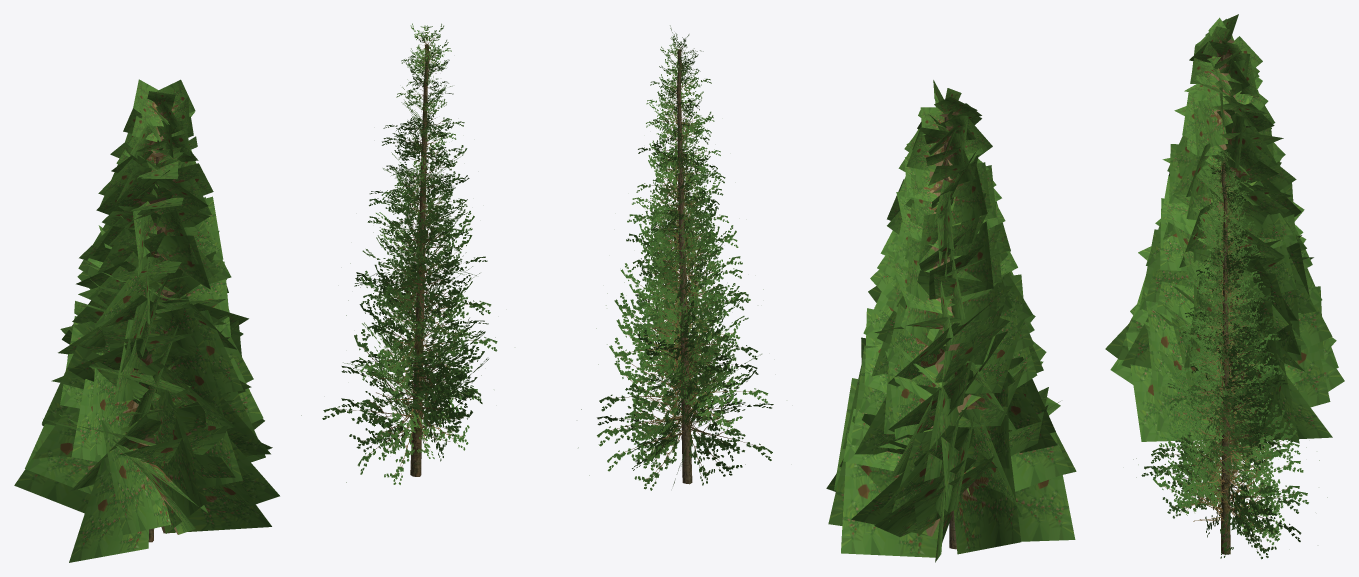
The model's file is tree.glb.
The picture shows the model from 3 angles, left to right: view 1: azimuth 30°, elevation 25°; view 2: azimuth 150°, elevation 25°; view 3: azimuth 270°, elevation 25°; orthographic projection. The views are drawn at different scales.
Parts seen in each view (by area): view 1: Tree, LOD; view 2: Tree, LOD; view 3: Tree, LOD.
Boxes of the visible parts, box(x1,y1,x2,y2) form: Tree: box(14, 79, 279, 562); LOD: box(301, 23, 497, 484); Tree: box(826, 80, 1076, 562); LOD: box(578, 25, 773, 490); Tree: box(1105, 14, 1344, 445); LOD: box(1133, 143, 1327, 559).
Bounding box in the file's own units: 1.78 × 1.64 × 0.8422.
4 materials, 4 textured.
